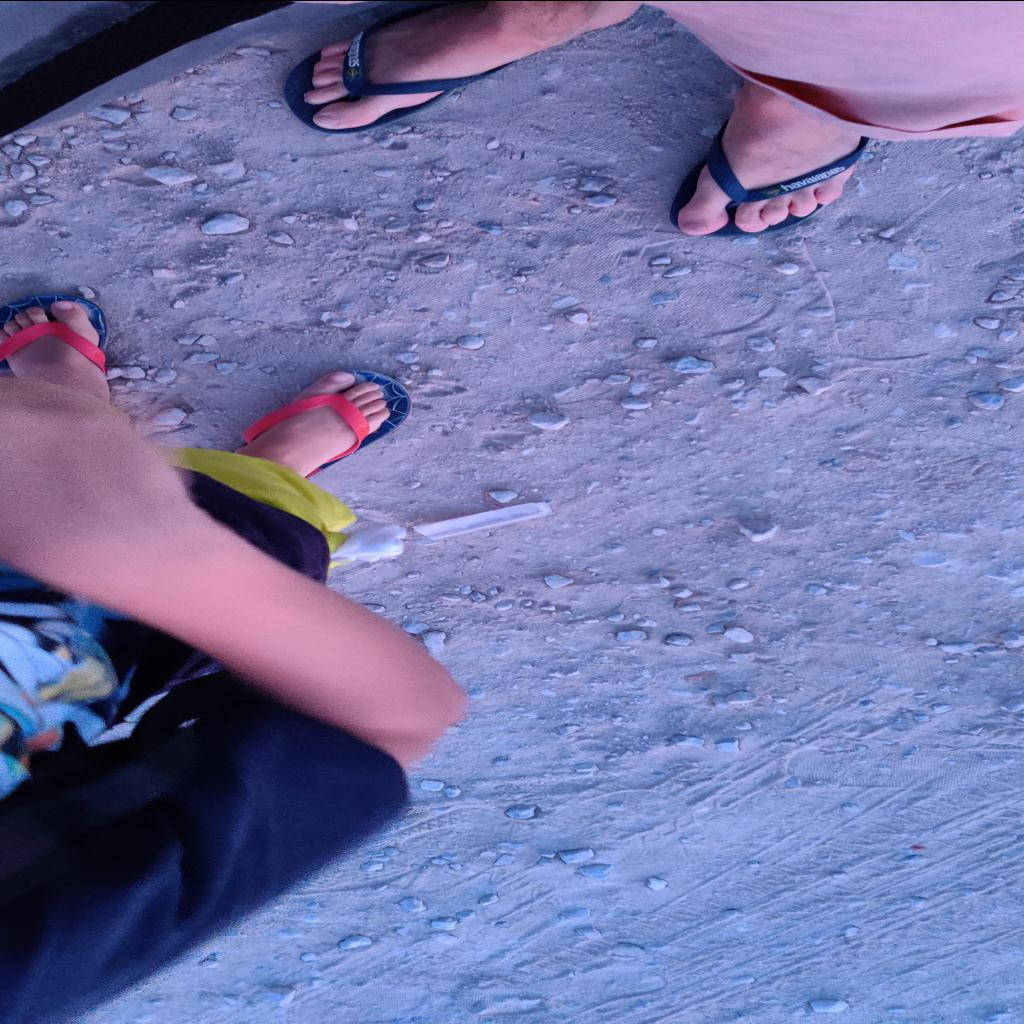Other plastic wrapper: (412, 500, 552, 540)
